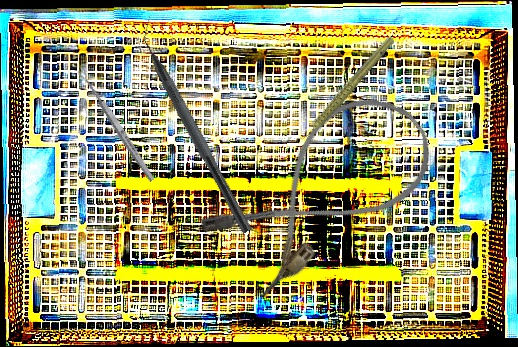Cannula: (192, 72, 452, 308)
Chopper: (127, 14, 267, 235)
Handpiece: (277, 33, 413, 145)
Surgical Spoon: (76, 67, 157, 183)
